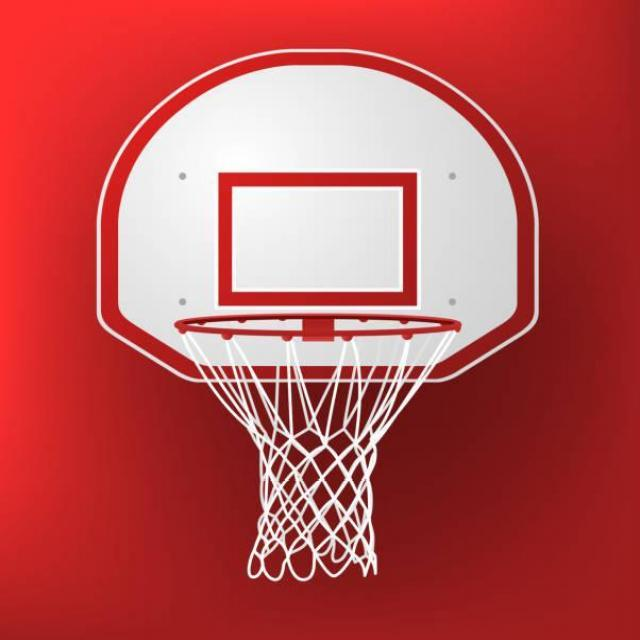hoop: (175, 313, 462, 582)
